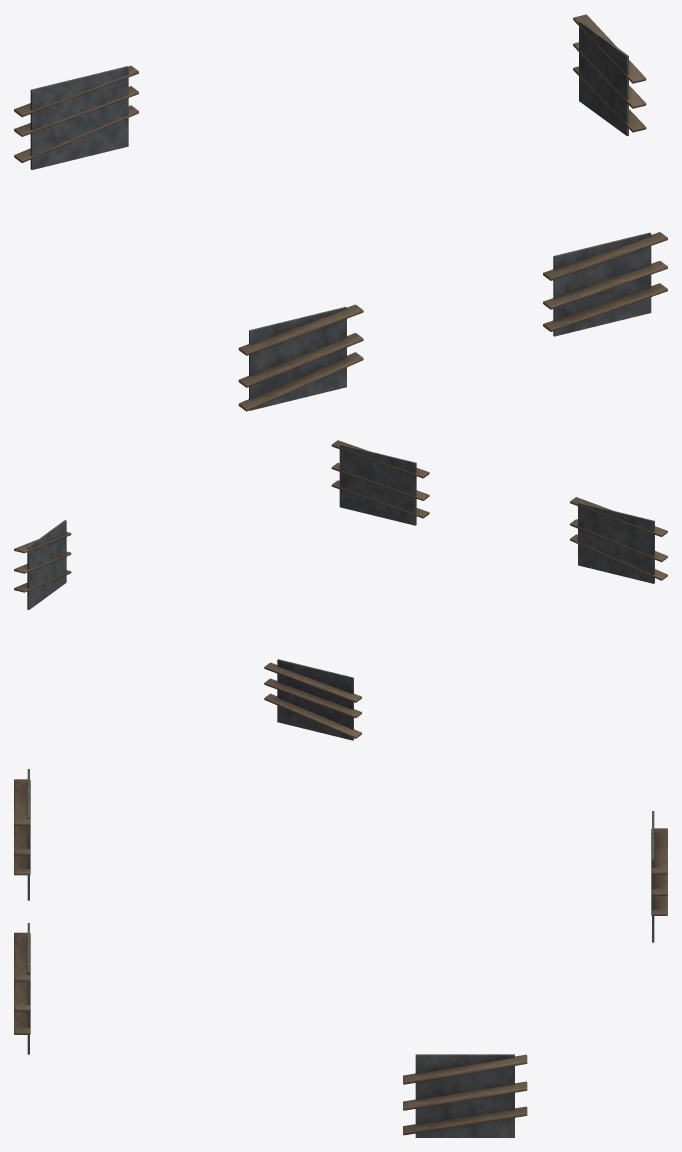
The model's file is home_ext_windows_broken.glb.
3 renders of one model, top to bottom at view 1: azimuth 30°, elevation 25°; view 2: azimuth 150°, elevation 25°; view 3: azimuth 270°, elevation 25°, orthographic. The views are drawn at different scales.
Parts seen in each view (by area): view 1: home_ext_windows_broken; view 2: home_ext_windows_broken; view 3: home_ext_windows_broken.
Part boxes in pixels (<box>): home_ext_windows_broken: <box>14,14,667,411</box>; home_ext_windows_broken: <box>14,440,667,740</box>; home_ext_windows_broken: <box>14,769,667,1137</box>.
Bounding box in the file's own units: 8.5 × 1.1 × 7.9.
1 material, 1 textured.
